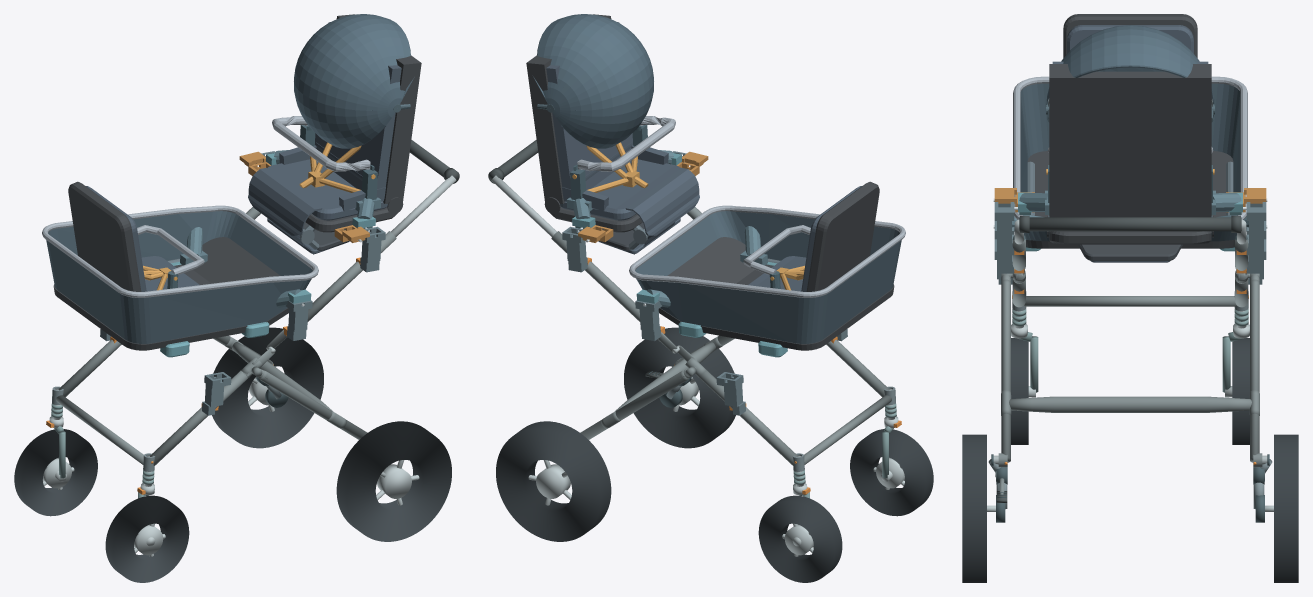
The model's file is D20_w650_state1_wheel_L.glb.
3 views of the same model, side by side, from view 1: azimuth 30°, elevation 25°; view 2: azimuth 150°, elevation 25°; view 3: azimuth 270°, elevation 25° (orthographic). The views are drawn at different scales.
Parts seen in each view (by area): view 1: D20_Lower, D20_Upper, RL_tire.008, RR_tire.008, FL_tire.008, FR_tire.008, V46_rear_leg_-1.009, main_lower_-1.009, front_fixed_round_tube.008, D20_Lower_Mount_M, main_upper_-1.009, RL_sealed_hub.008 (+9 smaller); view 2: D20_Lower, D20_Upper, RR_tire.008, RL_tire.008, FR_tire.008, FL_tire.008, V46_rear_leg_1.009, main_lower_1.009, front_fixed_round_tube.008, D20_Lower_Mount_M, main_upper_1.009, RR_sealed_hub.008 (+9 smaller); view 3: D20_Upper, D20_Lower, V46_rearbar.009, RL_tire.008, RR_tire.008, round_handle.008, front_fixed_round_tube.008, FL_tire.008, FR_tire.008, V46_rear_leg_1.009, V46_rear_leg_-1.009, D20_Upper_Mount_H (+4 smaller).
Part boxes in pixels (x1,y1,x2,y2): D20_Lower: (42, 181, 318, 357); D20_Upper: (248, 14, 421, 254); RL_tire.008: (336, 421, 451, 541); RR_tire.008: (212, 327, 323, 448); FL_tire.008: (105, 495, 189, 582); FR_tire.008: (14, 429, 97, 516); V46_rear_leg_-1.009: (259, 370, 367, 439); main_lower_-1.009: (150, 370, 251, 465); front_fixed_round_tube.008: (56, 395, 143, 464); D20_Lower_Mount_M: (180, 227, 311, 307); main_upper_-1.009: (307, 231, 396, 321); RL_sealed_hub.008: (377, 464, 411, 498); D20_Lower: (629, 181, 905, 357); D20_Upper: (526, 14, 699, 254); RR_tire.008: (496, 421, 611, 541); RL_tire.008: (624, 327, 735, 448); FR_tire.008: (758, 495, 842, 582); FL_tire.008: (850, 429, 933, 516); V46_rear_leg_1.009: (580, 370, 688, 439); main_lower_1.009: (696, 370, 797, 465); front_fixed_round_tube.008: (804, 395, 891, 464); D20_Lower_Mount_M: (636, 226, 767, 307); main_upper_1.009: (551, 231, 640, 321); RR_sealed_hub.008: (536, 464, 570, 498); D20_Upper: (1046, 25, 1214, 262); D20_Lower: (1013, 14, 1247, 251); V46_rearbar.009: (1009, 396, 1251, 412); RL_tire.008: (962, 434, 986, 582); RR_tire.008: (1274, 434, 1298, 582); round_handle.008: (1019, 217, 1241, 231); front_fixed_round_tube.008: (1024, 296, 1236, 306); FL_tire.008: (1011, 338, 1028, 444); FR_tire.008: (1232, 338, 1249, 444); V46_rear_leg_1.009: (1250, 279, 1259, 462); V46_rear_leg_-1.009: (1001, 279, 1010, 462); D20_Upper_Mount_H: (1014, 190, 1246, 214).
Bounding box in the file's own units: 1.2 × 1.51 × 0.8171.
